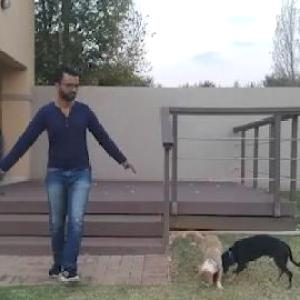land: (1, 74, 137, 284)
